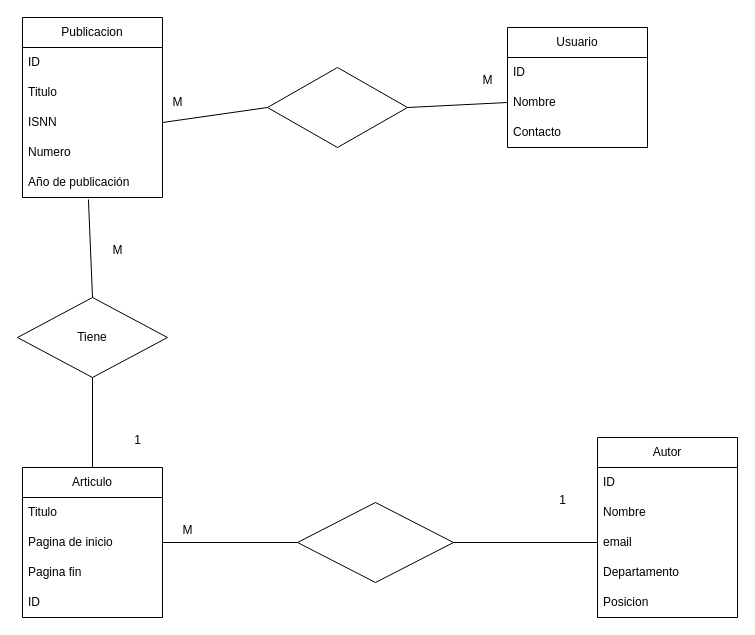
Image size: 755x635. Some labels were removed from this diagram. Here are the shapes that lost their labels. From the top down, the centre of each, then its label:
At (x=337, y=107): "Subscribe".
At (x=375, y=542): "Escribe".
